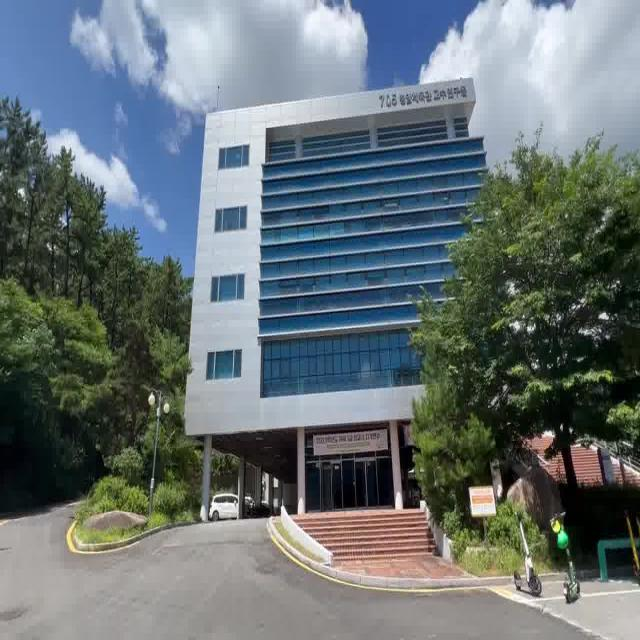building: (185, 82, 488, 506)
